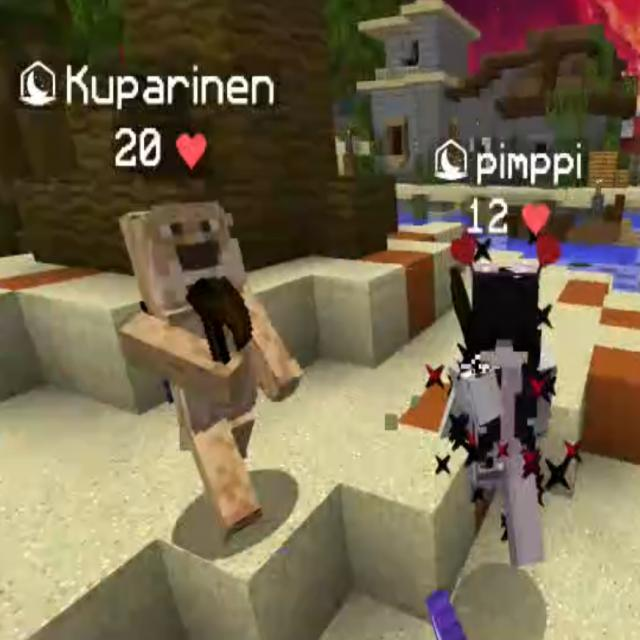Player: (115, 200, 301, 538), (450, 265, 553, 566)
